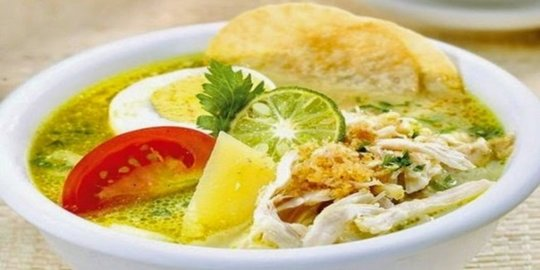soto: (46, 14, 532, 270)
